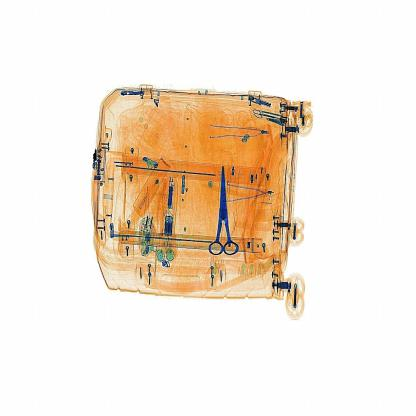gun: (203, 149, 249, 267)
